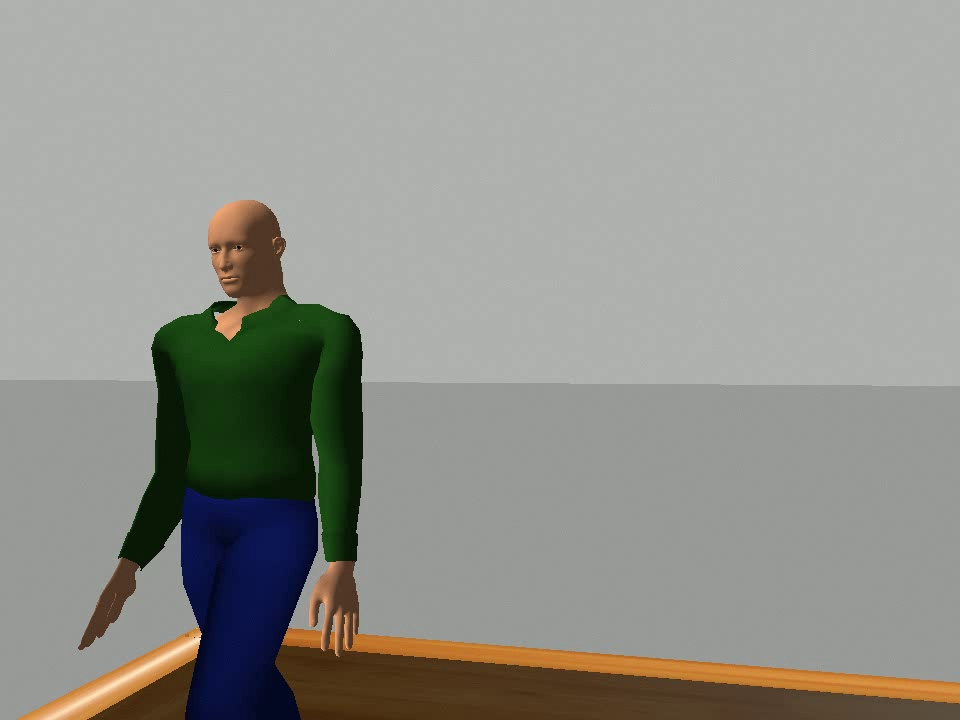person: (71, 195, 369, 720)
